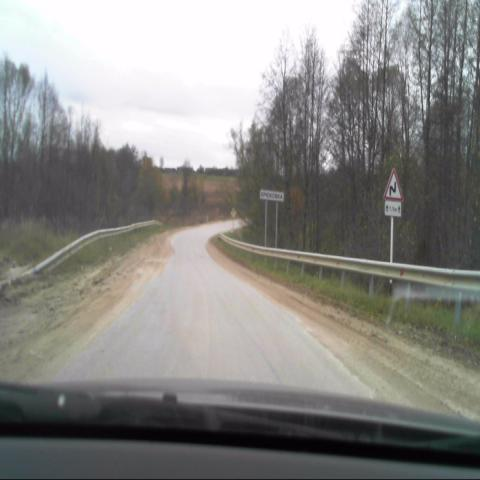1_12: (384, 167, 402, 200)
